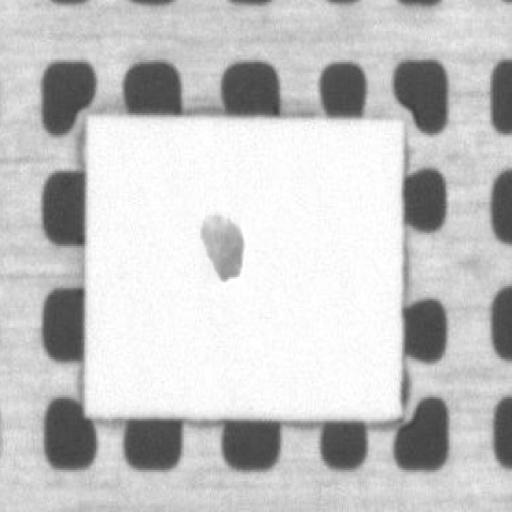DIE_INK: (198, 210, 243, 284)
